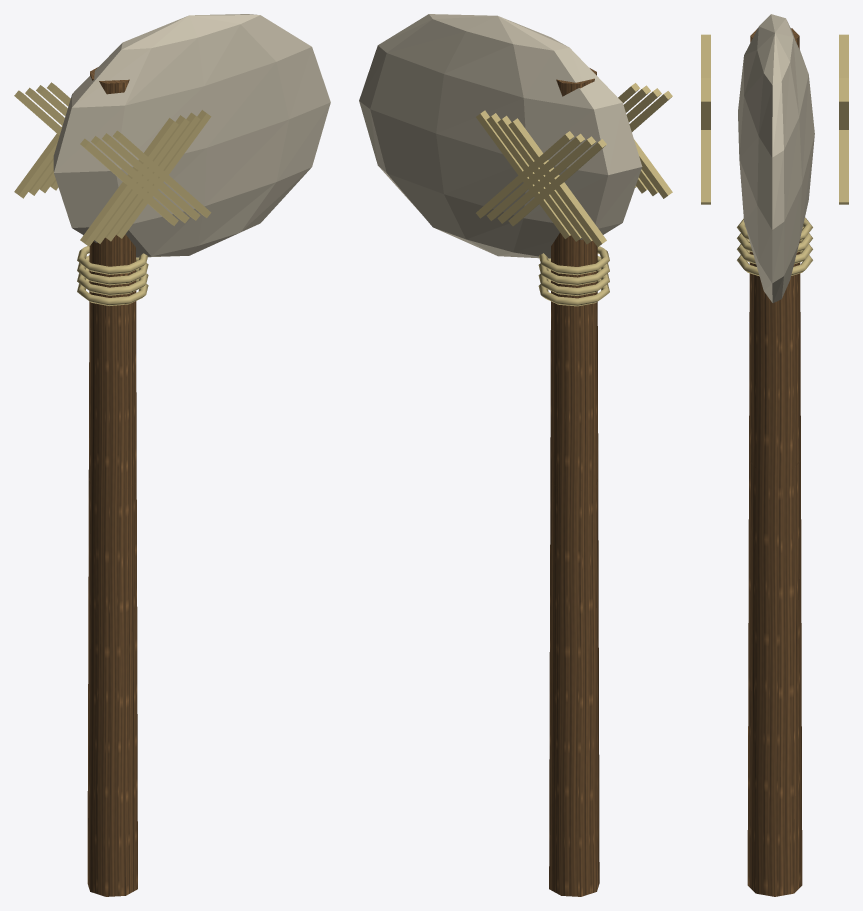
The model's file is hache_ficelee_0.glb.
3 views of the same model, side by side, from view 1: azimuth 30°, elevation 25°; view 2: azimuth 150°, elevation 25°; view 3: azimuth 270°, elevation 25° (orthographic). The views are drawn at different scales.
Parts seen in each view (by area): view 1: hache_ficelee_02; view 2: hache_ficelee_02; view 3: hache_ficelee_02.
Boxes of the visible parts, left/top/right/bottom form: hache_ficelee_02: left=14, top=14, right=330, bottom=896; hache_ficelee_02: left=359, top=14, right=672, bottom=896; hache_ficelee_02: left=701, top=14, right=848, bottom=896.
Size of the model in its own units: 0.2167 by 0.6296 by 0.0945.
3 materials, 1 textured.
